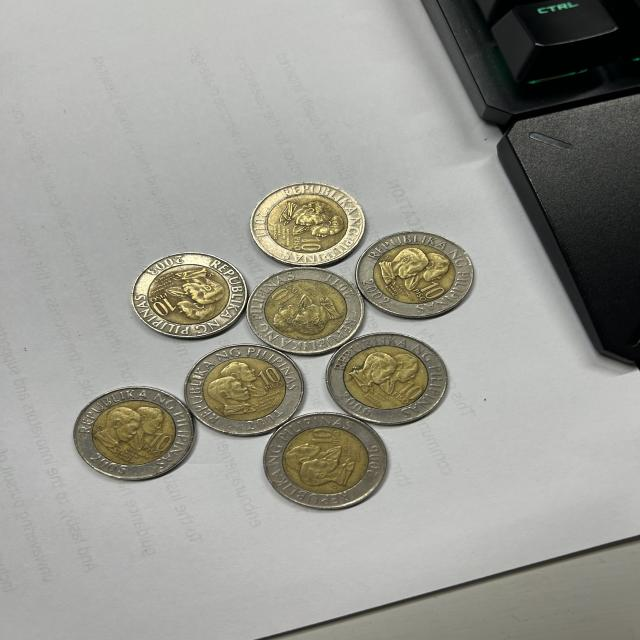10_Old_Front: (400, 384, 425, 403), (147, 431, 173, 449), (257, 368, 283, 385), (154, 298, 178, 316), (311, 428, 335, 445), (299, 236, 323, 252), (423, 283, 445, 299), (274, 288, 299, 302)
